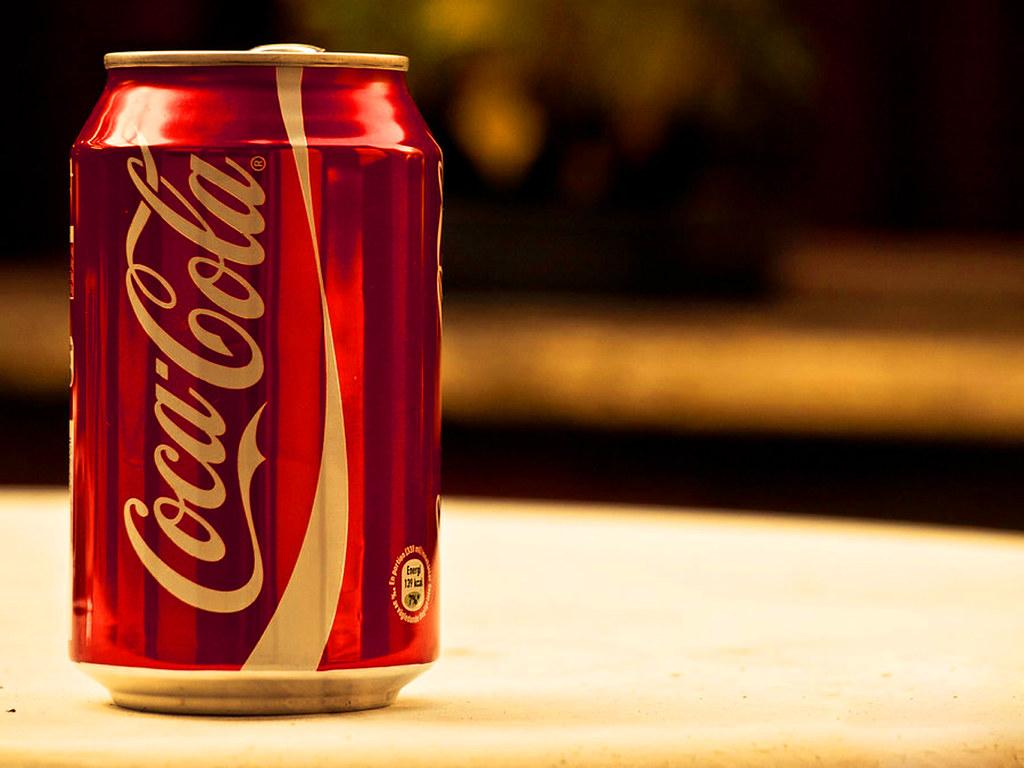metal: (69, 43, 440, 716)
